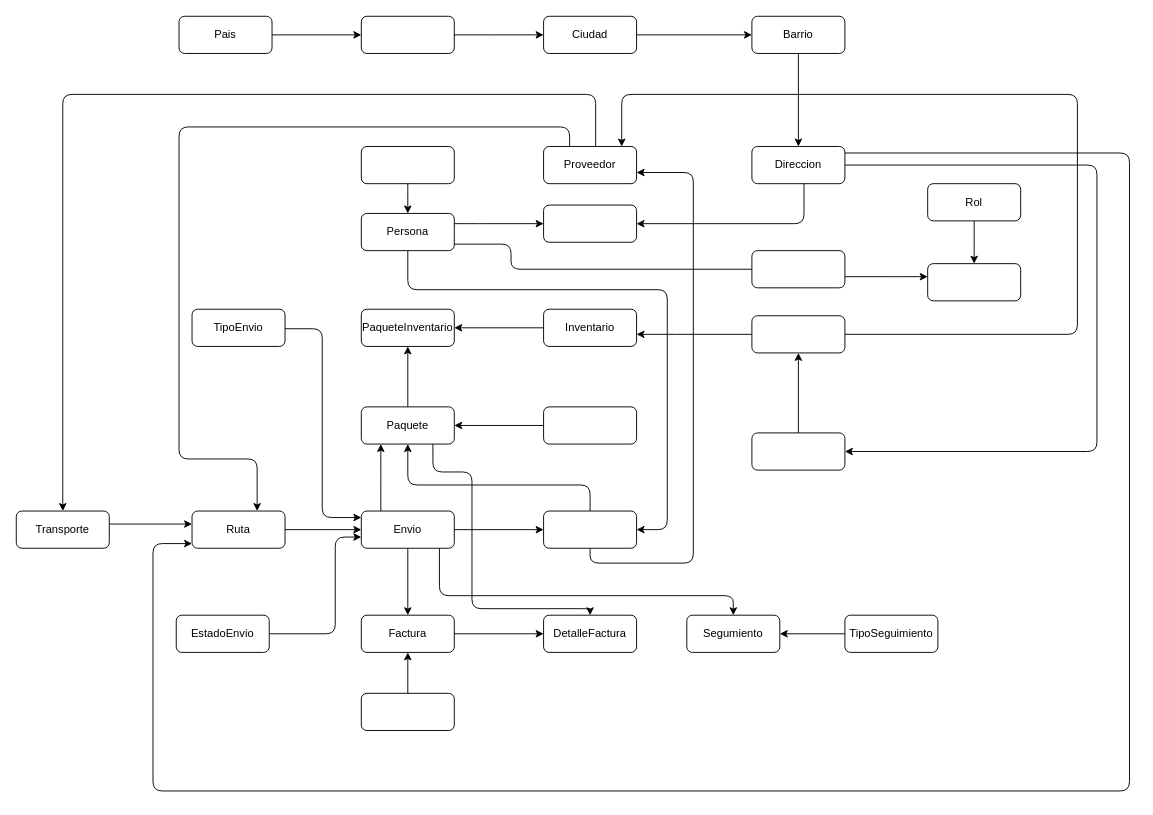
This 1153x815 diagram has some shape labels left out. Here are the shapes that lost their labels. From the top down, the centre of each, then its label:
(407,34): Departamento
(407,165): TipoPersona
(590,223): PersonaDireccion
(798,269): Usuario
(974,282): UsuarioRol
(798,334): TipoSucursal
(590,425): TipoPaquete
(798,451): Sucursal
(590,529): Pedido
(407,711): TipoFactura
